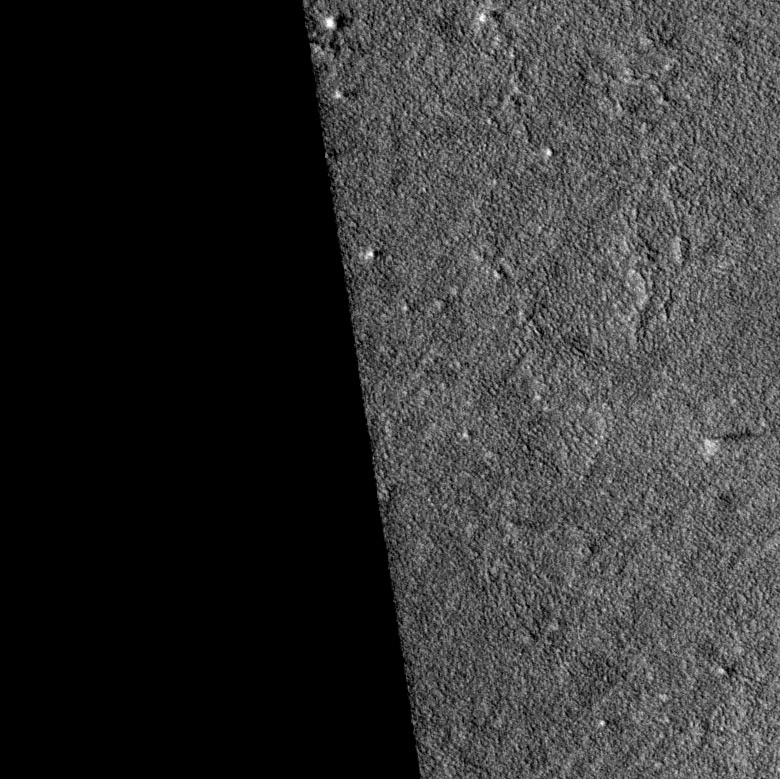dust_devil: (702, 426, 762, 457)
